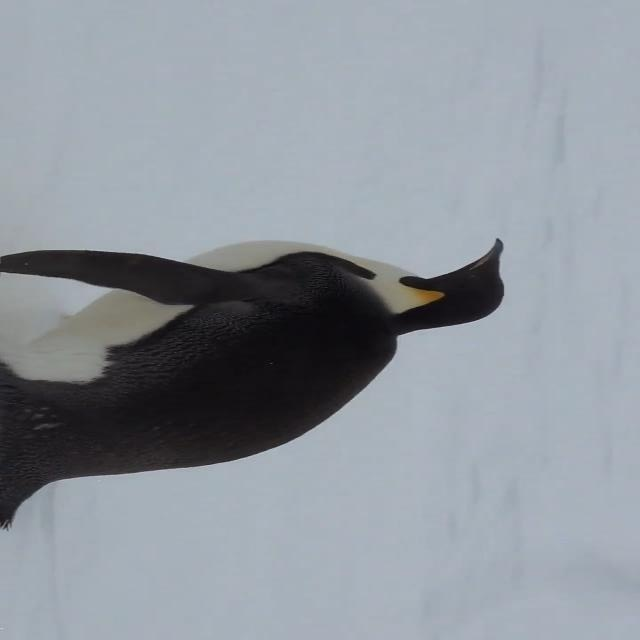penguin: (2, 239, 505, 531)
